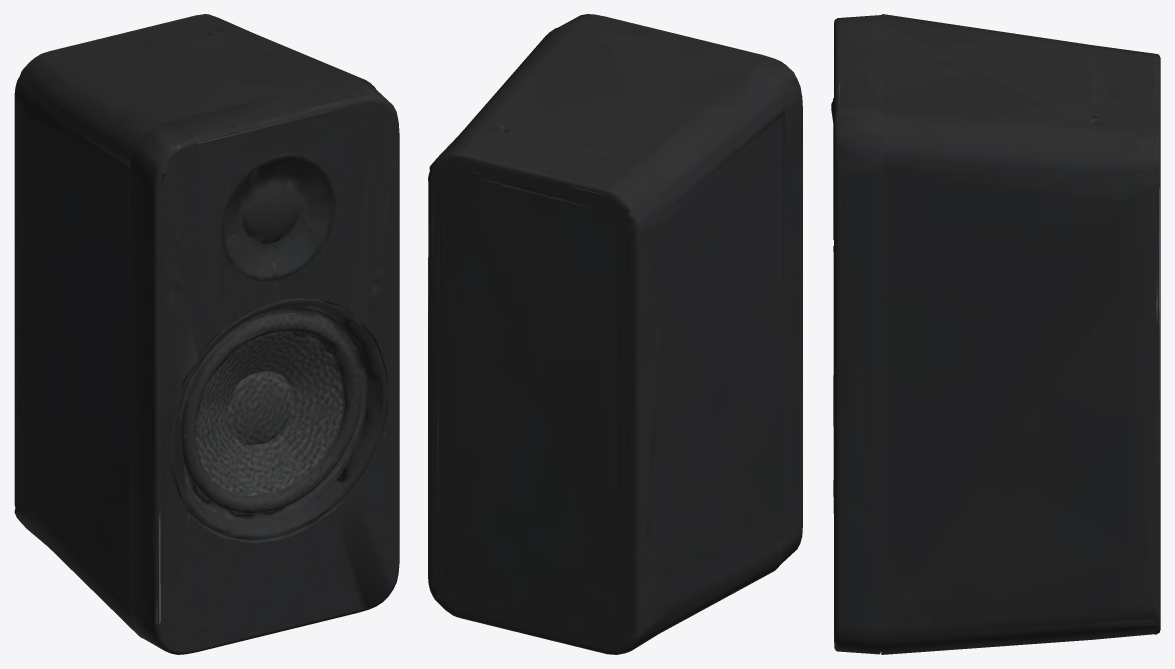
Rendered from speaker.glb.
3 renders of one model, left to right at view 1: azimuth 30°, elevation 25°; view 2: azimuth 150°, elevation 25°; view 3: azimuth 270°, elevation 25°, orthographic. The views are drawn at different scales.
Bounding box in the file's own units: 0.4834 × 0.9512 × 0.5254.
Materials: 1 (1 with a texture image).
